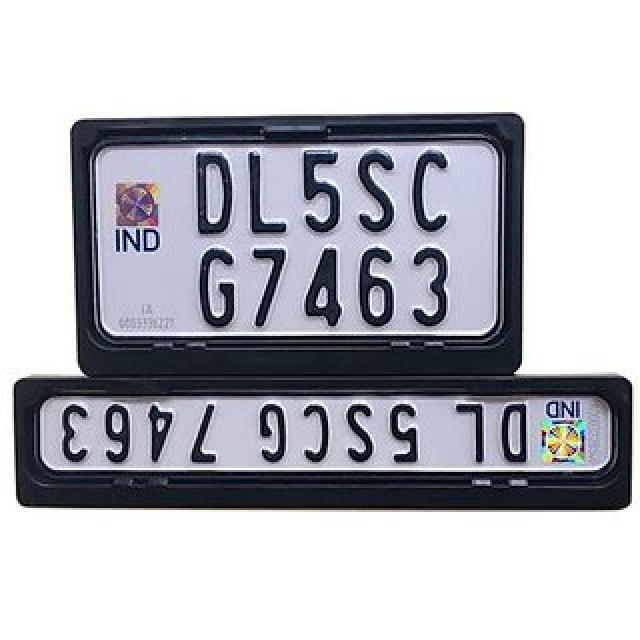plate: (79, 135, 515, 361), (27, 389, 623, 491)
